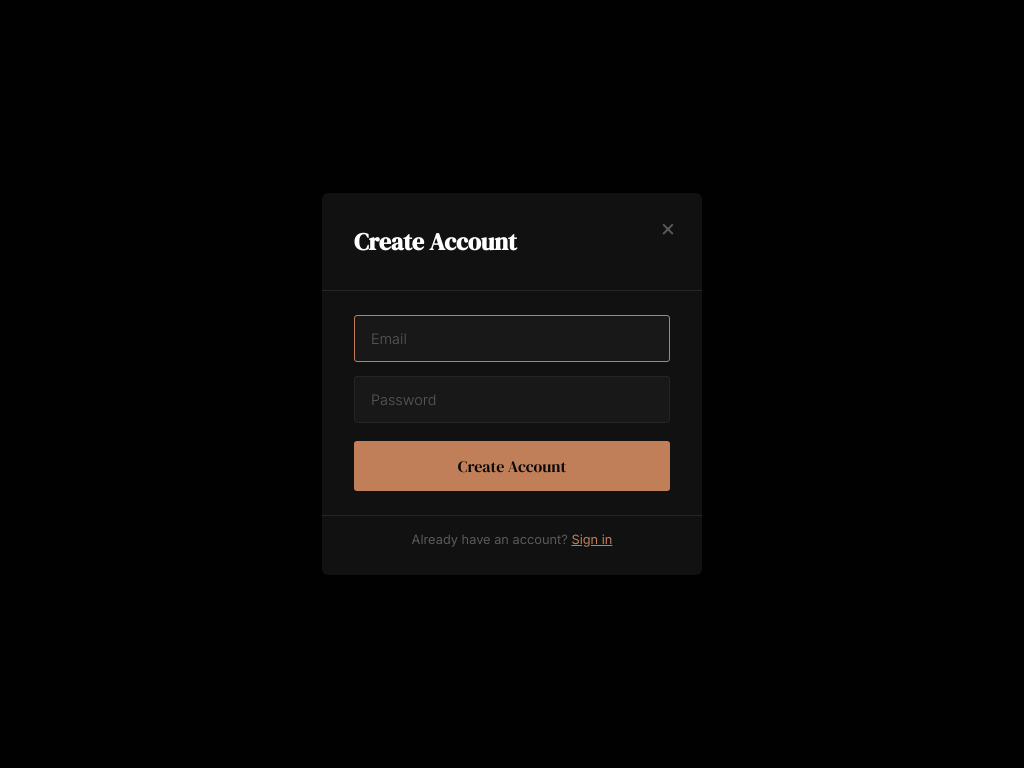
it: AuthModal › mode switching › switches back to signin mode when "Sign in" link is clicked
Click the button "Sign in" at (592, 540), box [571, 532, 612, 547]
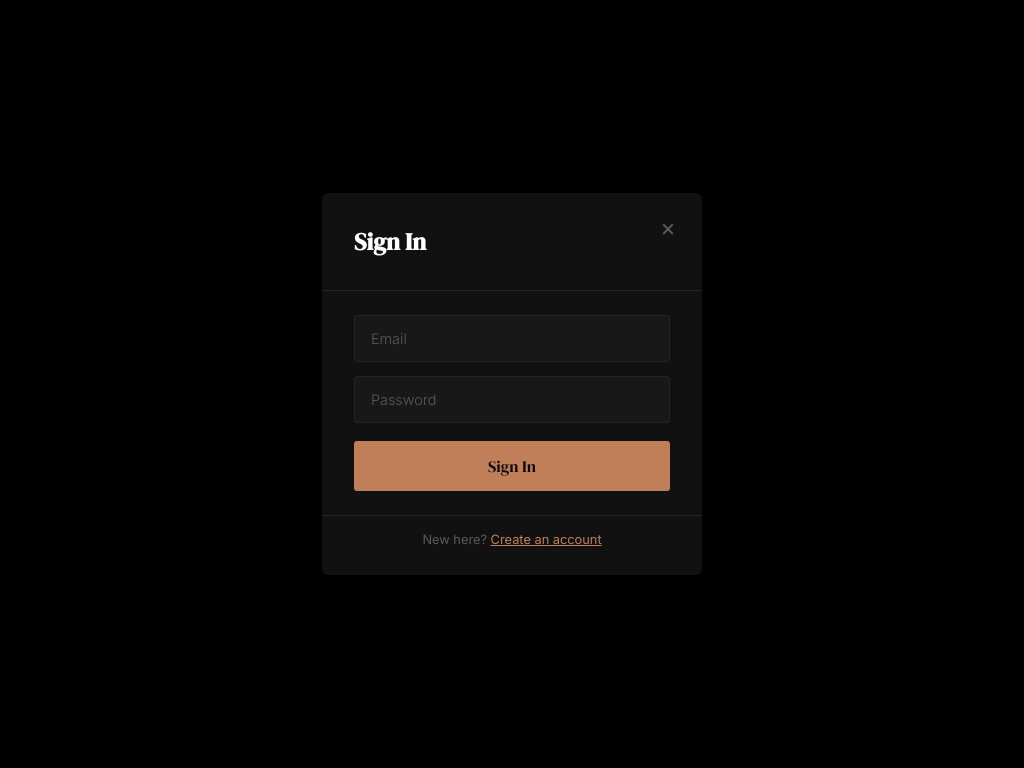
Now the heading "Sign In" is shown, box [354, 225, 426, 258]
